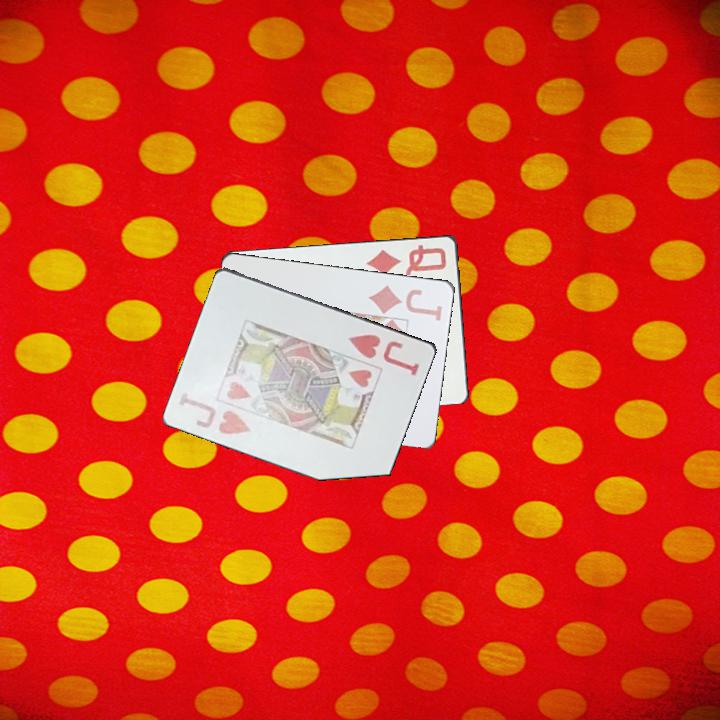Jd: (365, 281, 446, 322)
Jh: (345, 330, 423, 378), (176, 389, 254, 437)
Qd: (363, 240, 450, 278)
